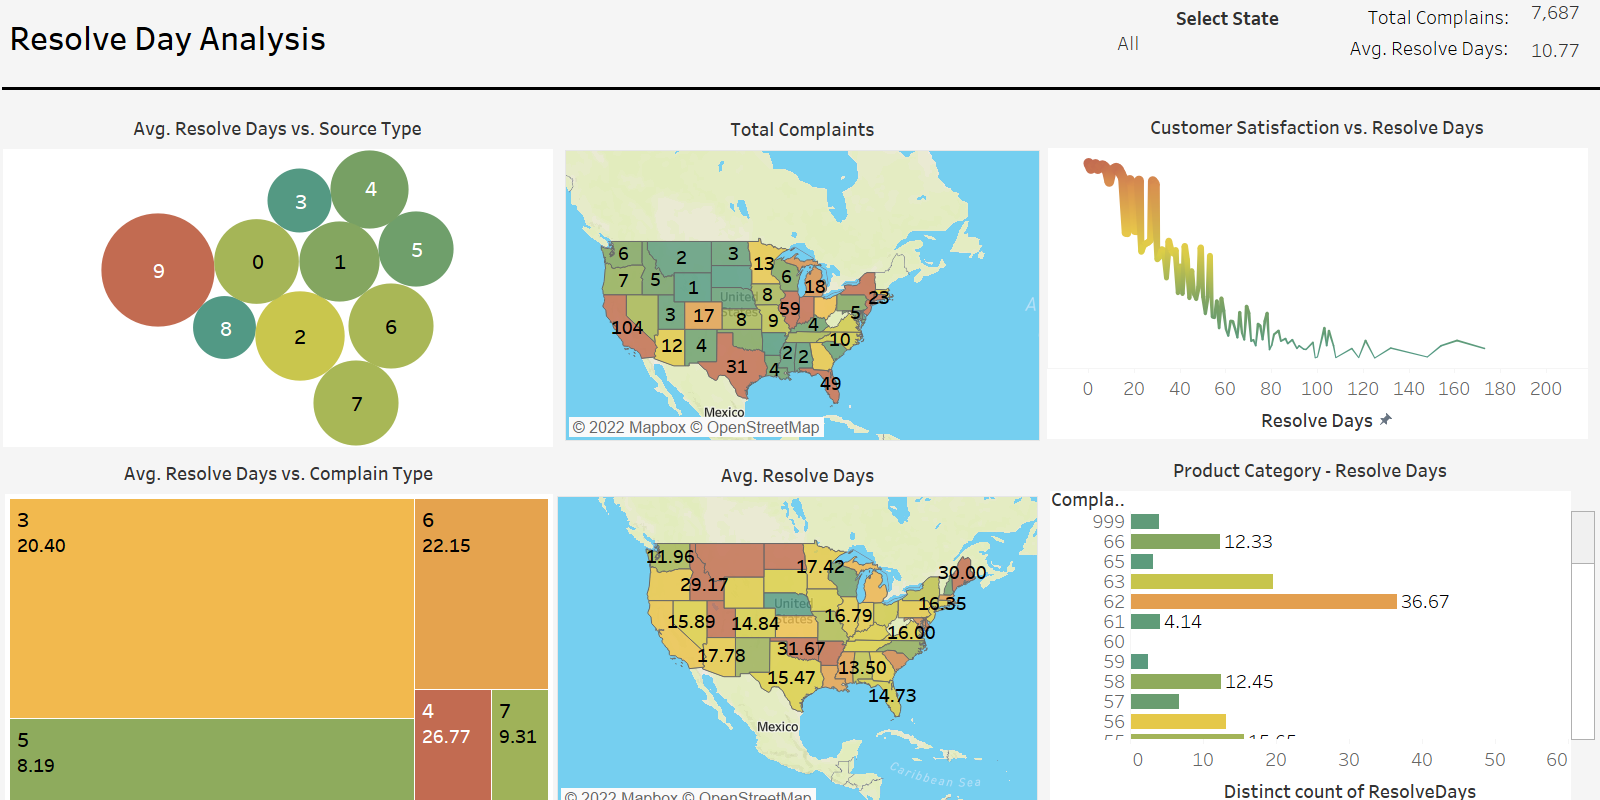

What the dashboard file says about the page in this screenshot:
{"tool":"tableau","page":{"name":"Resolve Days","canvas":[1600,800],"ordinal":3},"visuals":[{"type":"text","box":[1358,2,161,30]},{"type":"filter","title":"Resolve Days - SourceID","param":"[federated.0wpetlz05slr5d1921f501m4siev].[none:state:nk]","box":[1115,4,225,59]},{"type":"text","box":[5,8,454,59]},{"type":"text","box":[1339,33,180,30]},{"type":"worksheet","title":"Avg.Resolve Days","mark":"Automatic","box":[1522,35,62,30]},{"type":"blank","box":[2,87,1600,3]},{"type":"worksheet","title":"ResolveDays- CusSat","mark":"Automatic","rows":["ClientSatisfaction (Predictive Model1 Data)"],"cols":["ResolveDays"],"box":[1047,108,540,331]},{"type":"worksheet","title":"Resolve Days - SourceID","mark":"Circle","box":[3,109,549,337]},{"type":"worksheet","title":"No.Days to Resolve_State","mark":"Multipolygon","box":[565,110,475,331]}]}

Visuals, with their boxes in screenshot pixels (x1, y1, x2, y2), scaled from the page's 1600x800 canvas onto the 1600x800 screenshot:
text: box(1358, 2, 1519, 32)
"Resolve Days - SourceID" filter: box(1115, 4, 1340, 63)
text: box(5, 8, 459, 67)
text: box(1339, 33, 1519, 63)
"Avg.Resolve Days" worksheet: box(1522, 35, 1584, 65)
blank: box(2, 87, 1599, 90)
"ResolveDays- CusSat" worksheet: box(1047, 108, 1587, 439)
"Resolve Days - SourceID" worksheet (Circle marks): box(3, 109, 552, 446)
"No.Days to Resolve_State" worksheet (Multipolygon marks): box(565, 110, 1040, 441)
